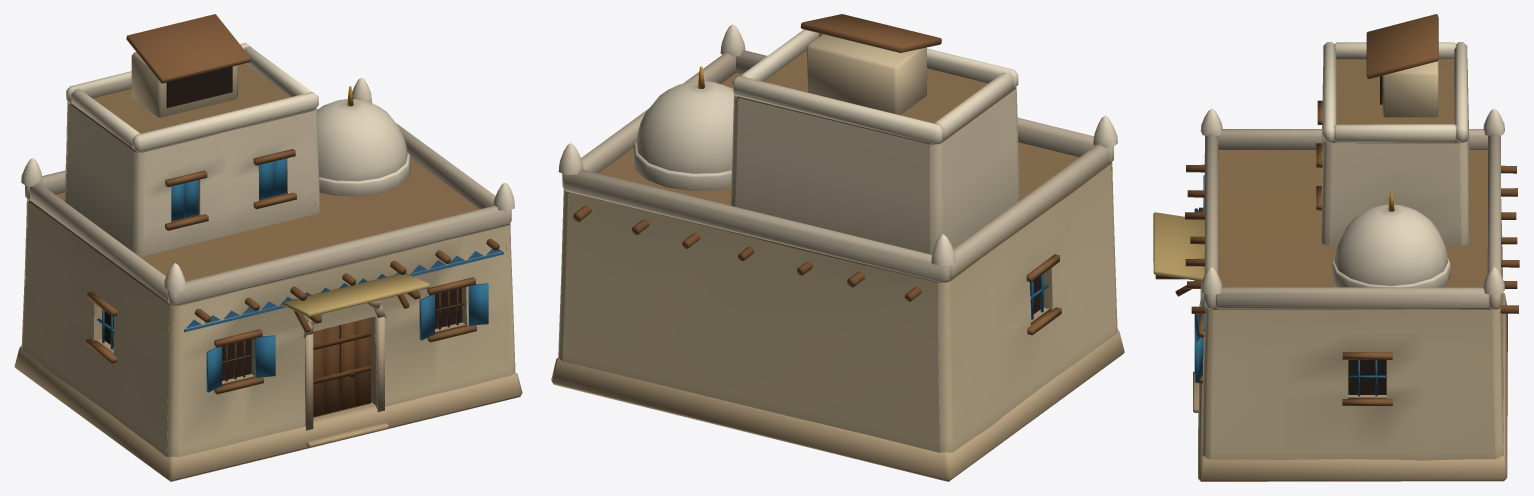
Rendered from house_e.glb.
3 renders of one model, left to right at view 1: azimuth 30°, elevation 25°; view 2: azimuth 150°, elevation 25°; view 3: azimuth 270°, elevation 25°, orthographic. The views are drawn at different scales.
Parts seen in each view (by area): view 1: house_e; view 2: house_e; view 3: house_e.
Boxes of the visible parts, x1=… form: house_e: x1=14, y1=14, x2=522, y2=481; house_e: x1=551, y1=14, x2=1124, y2=481; house_e: x1=1153, y1=14, x2=1519, y2=481.
Size of what is drawn, in the model's own units: 6.82 by 6.27 by 6.18.
